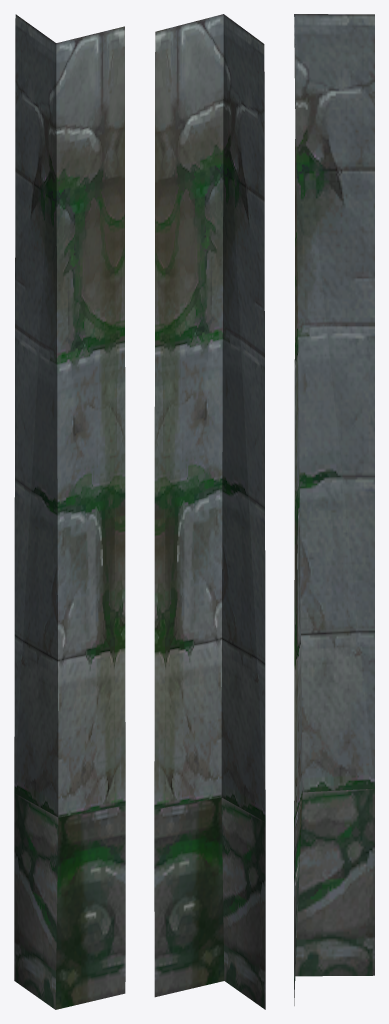
Rendered from stemple_wall_convex_08.fbx.
3 renders of one model, left to right at view 1: azimuth 30°, elevation 25°; view 2: azimuth 210°, elevation 25°; view 3: azimuth 270°, elevation 25°, orthographic.
Visible parts, largest first — view 1: stemple_wall_convex_08-0; view 2: stemple_wall_convex_08-0; view 3: stemple_wall_convex_08-0.
Boxes of the visible parts, left/top/right/bottom form: stemple_wall_convex_08-0: left=14, top=14, right=125, bottom=1009; stemple_wall_convex_08-0: left=154, top=14, right=265, bottom=1009; stemple_wall_convex_08-0: left=294, top=14, right=374, bottom=1005.
Bounding box in the file's own units: 0.42 × 5.5 × 0.4195.
